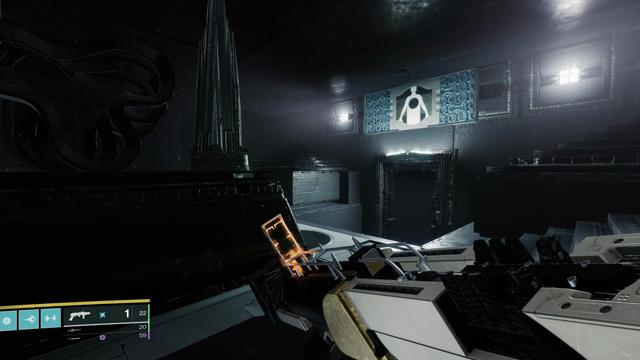grief: (396, 86, 432, 125)
